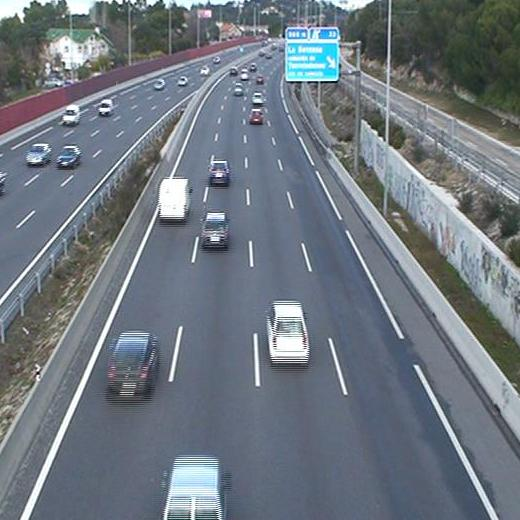car: (106, 333, 158, 398), (268, 301, 308, 363), (203, 213, 226, 250), (208, 162, 229, 186), (248, 109, 264, 125), (251, 92, 262, 104), (233, 83, 242, 96), (240, 68, 248, 80), (256, 75, 265, 85)
van: (161, 456, 224, 520), (158, 179, 190, 221)
